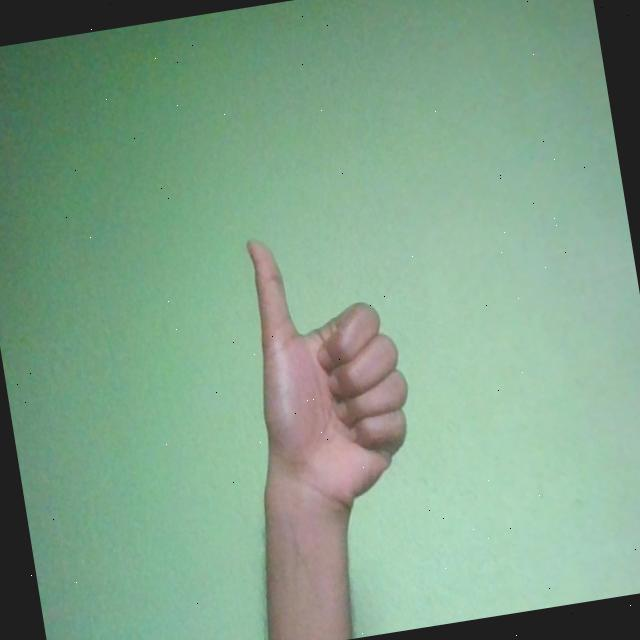Good Job: (236, 219, 426, 525)
